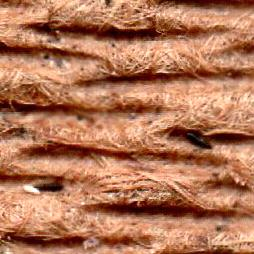egg: (185, 132, 211, 147), (34, 183, 63, 192)
